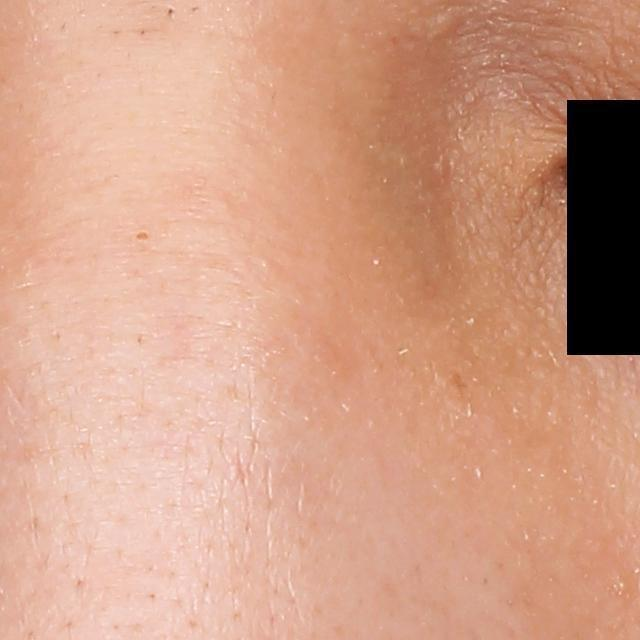comedo: (133, 228, 154, 243)
